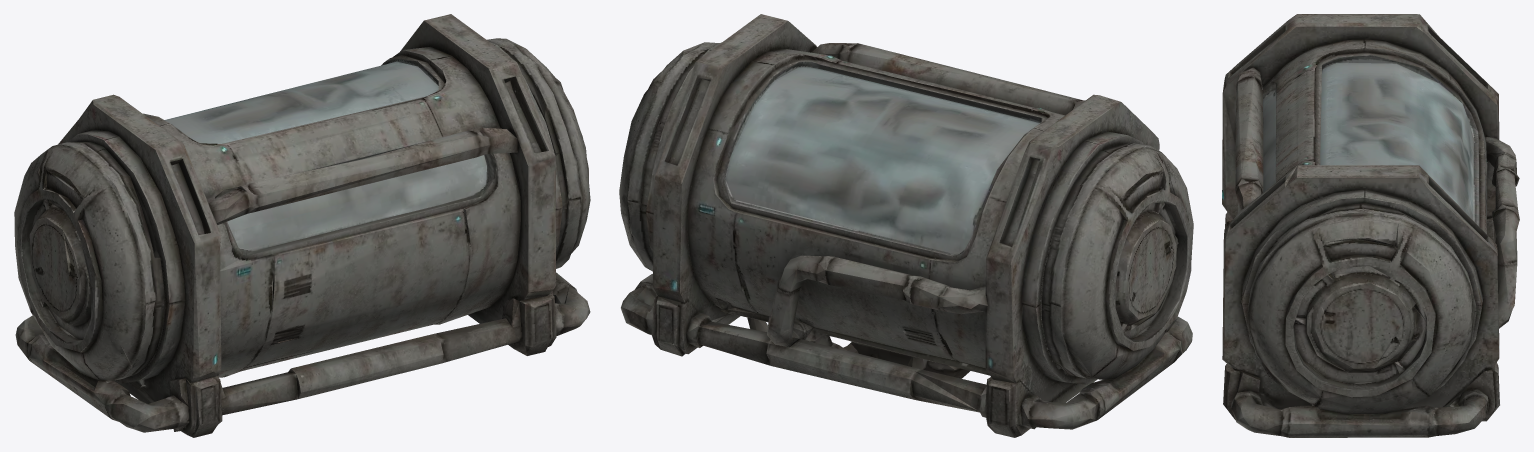
The model's file is capture.recruit_container.glb.
The picture shows the model from 3 angles, left to right: view 1: azimuth 30°, elevation 25°; view 2: azimuth 150°, elevation 25°; view 3: azimuth 270°, elevation 25°; orthographic projection. The views are drawn at different scales.
Visible parts, largest first — view 1: body; view 2: body; view 3: body.
Boxes of the visible parts, bbox=[...] form: body: bbox=[14, 14, 590, 437]; body: bbox=[619, 14, 1193, 437]; body: bbox=[1222, 14, 1519, 437].
Size of the model in its own units: 1.1 by 0.5775 by 0.6173.
Materials: 1 (1 with a texture image).
